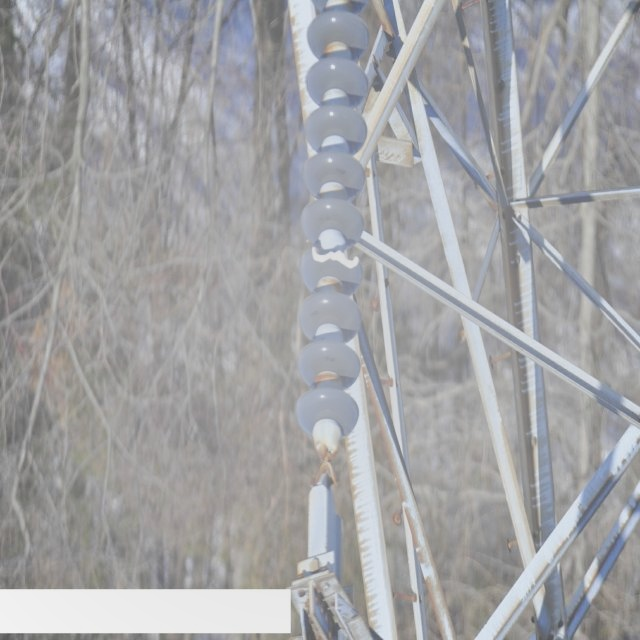broken: (305, 240, 364, 284)
insulator: (296, 12, 370, 437)
